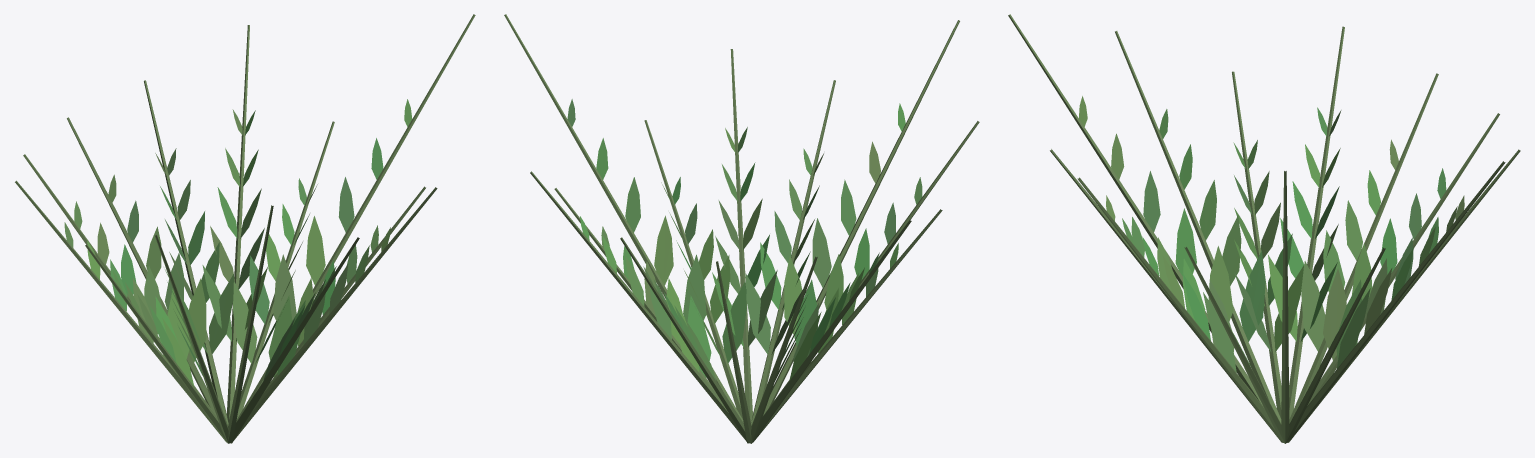
The model's file is fern-03.glb.
The picture shows the model from 3 angles, left to right: view 1: azimuth 30°, elevation 25°; view 2: azimuth 150°, elevation 25°; view 3: azimuth 270°, elevation 25°; orthographic projection. The views are drawn at different scales.
Visible parts, largest first — view 1: part_000; view 2: part_000; view 3: part_000.
Boxes of the visible parts, <box> form: part_000: <box>15,14,475,443</box>; part_000: <box>504,14,979,443</box>; part_000: <box>1008,14,1520,443</box>.
Size of the model in its own units: 1.58 by 1.28 by 1.48.
